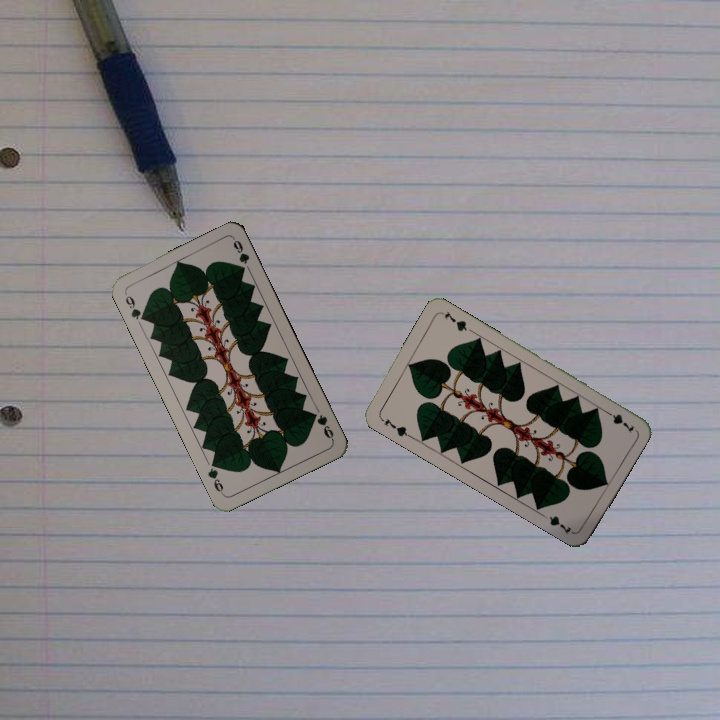G7: (600, 406, 637, 435), (376, 413, 413, 440)
G9: (307, 408, 336, 443), (120, 289, 149, 324)
